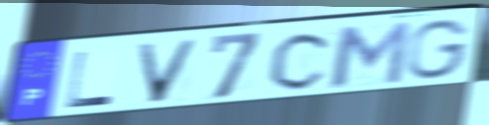7: (208, 30, 263, 102)
C: (266, 29, 336, 92)
G: (404, 17, 474, 82)
L: (64, 49, 117, 111)
M: (328, 18, 414, 90)
V: (133, 37, 203, 106)
